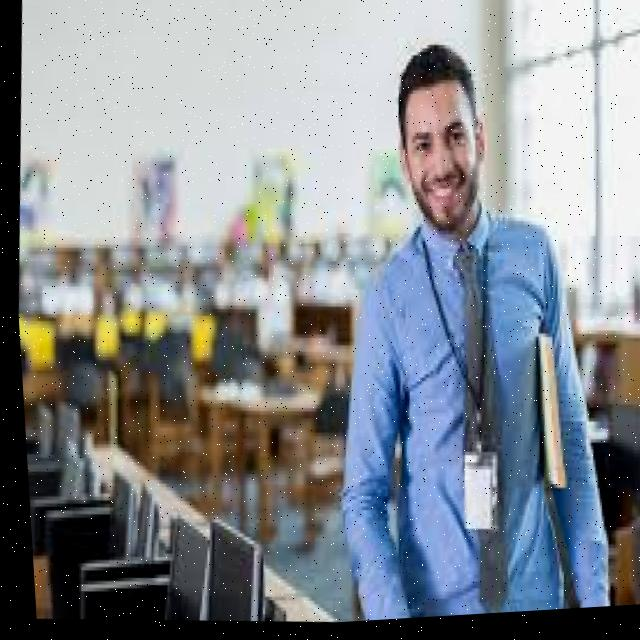id_card: (395, 243, 526, 544)
